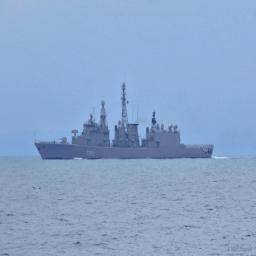Fragata: (35, 75, 218, 165)
